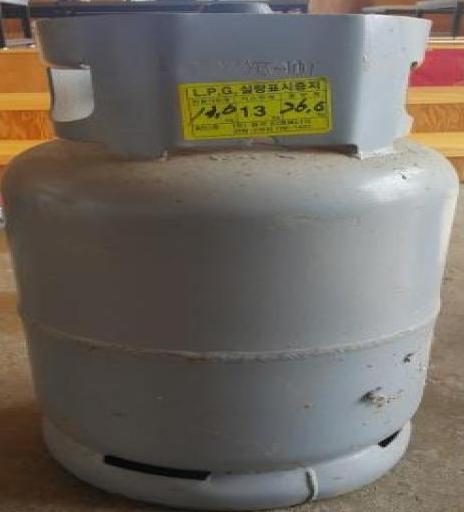cylinder: (1, 1, 464, 512)
